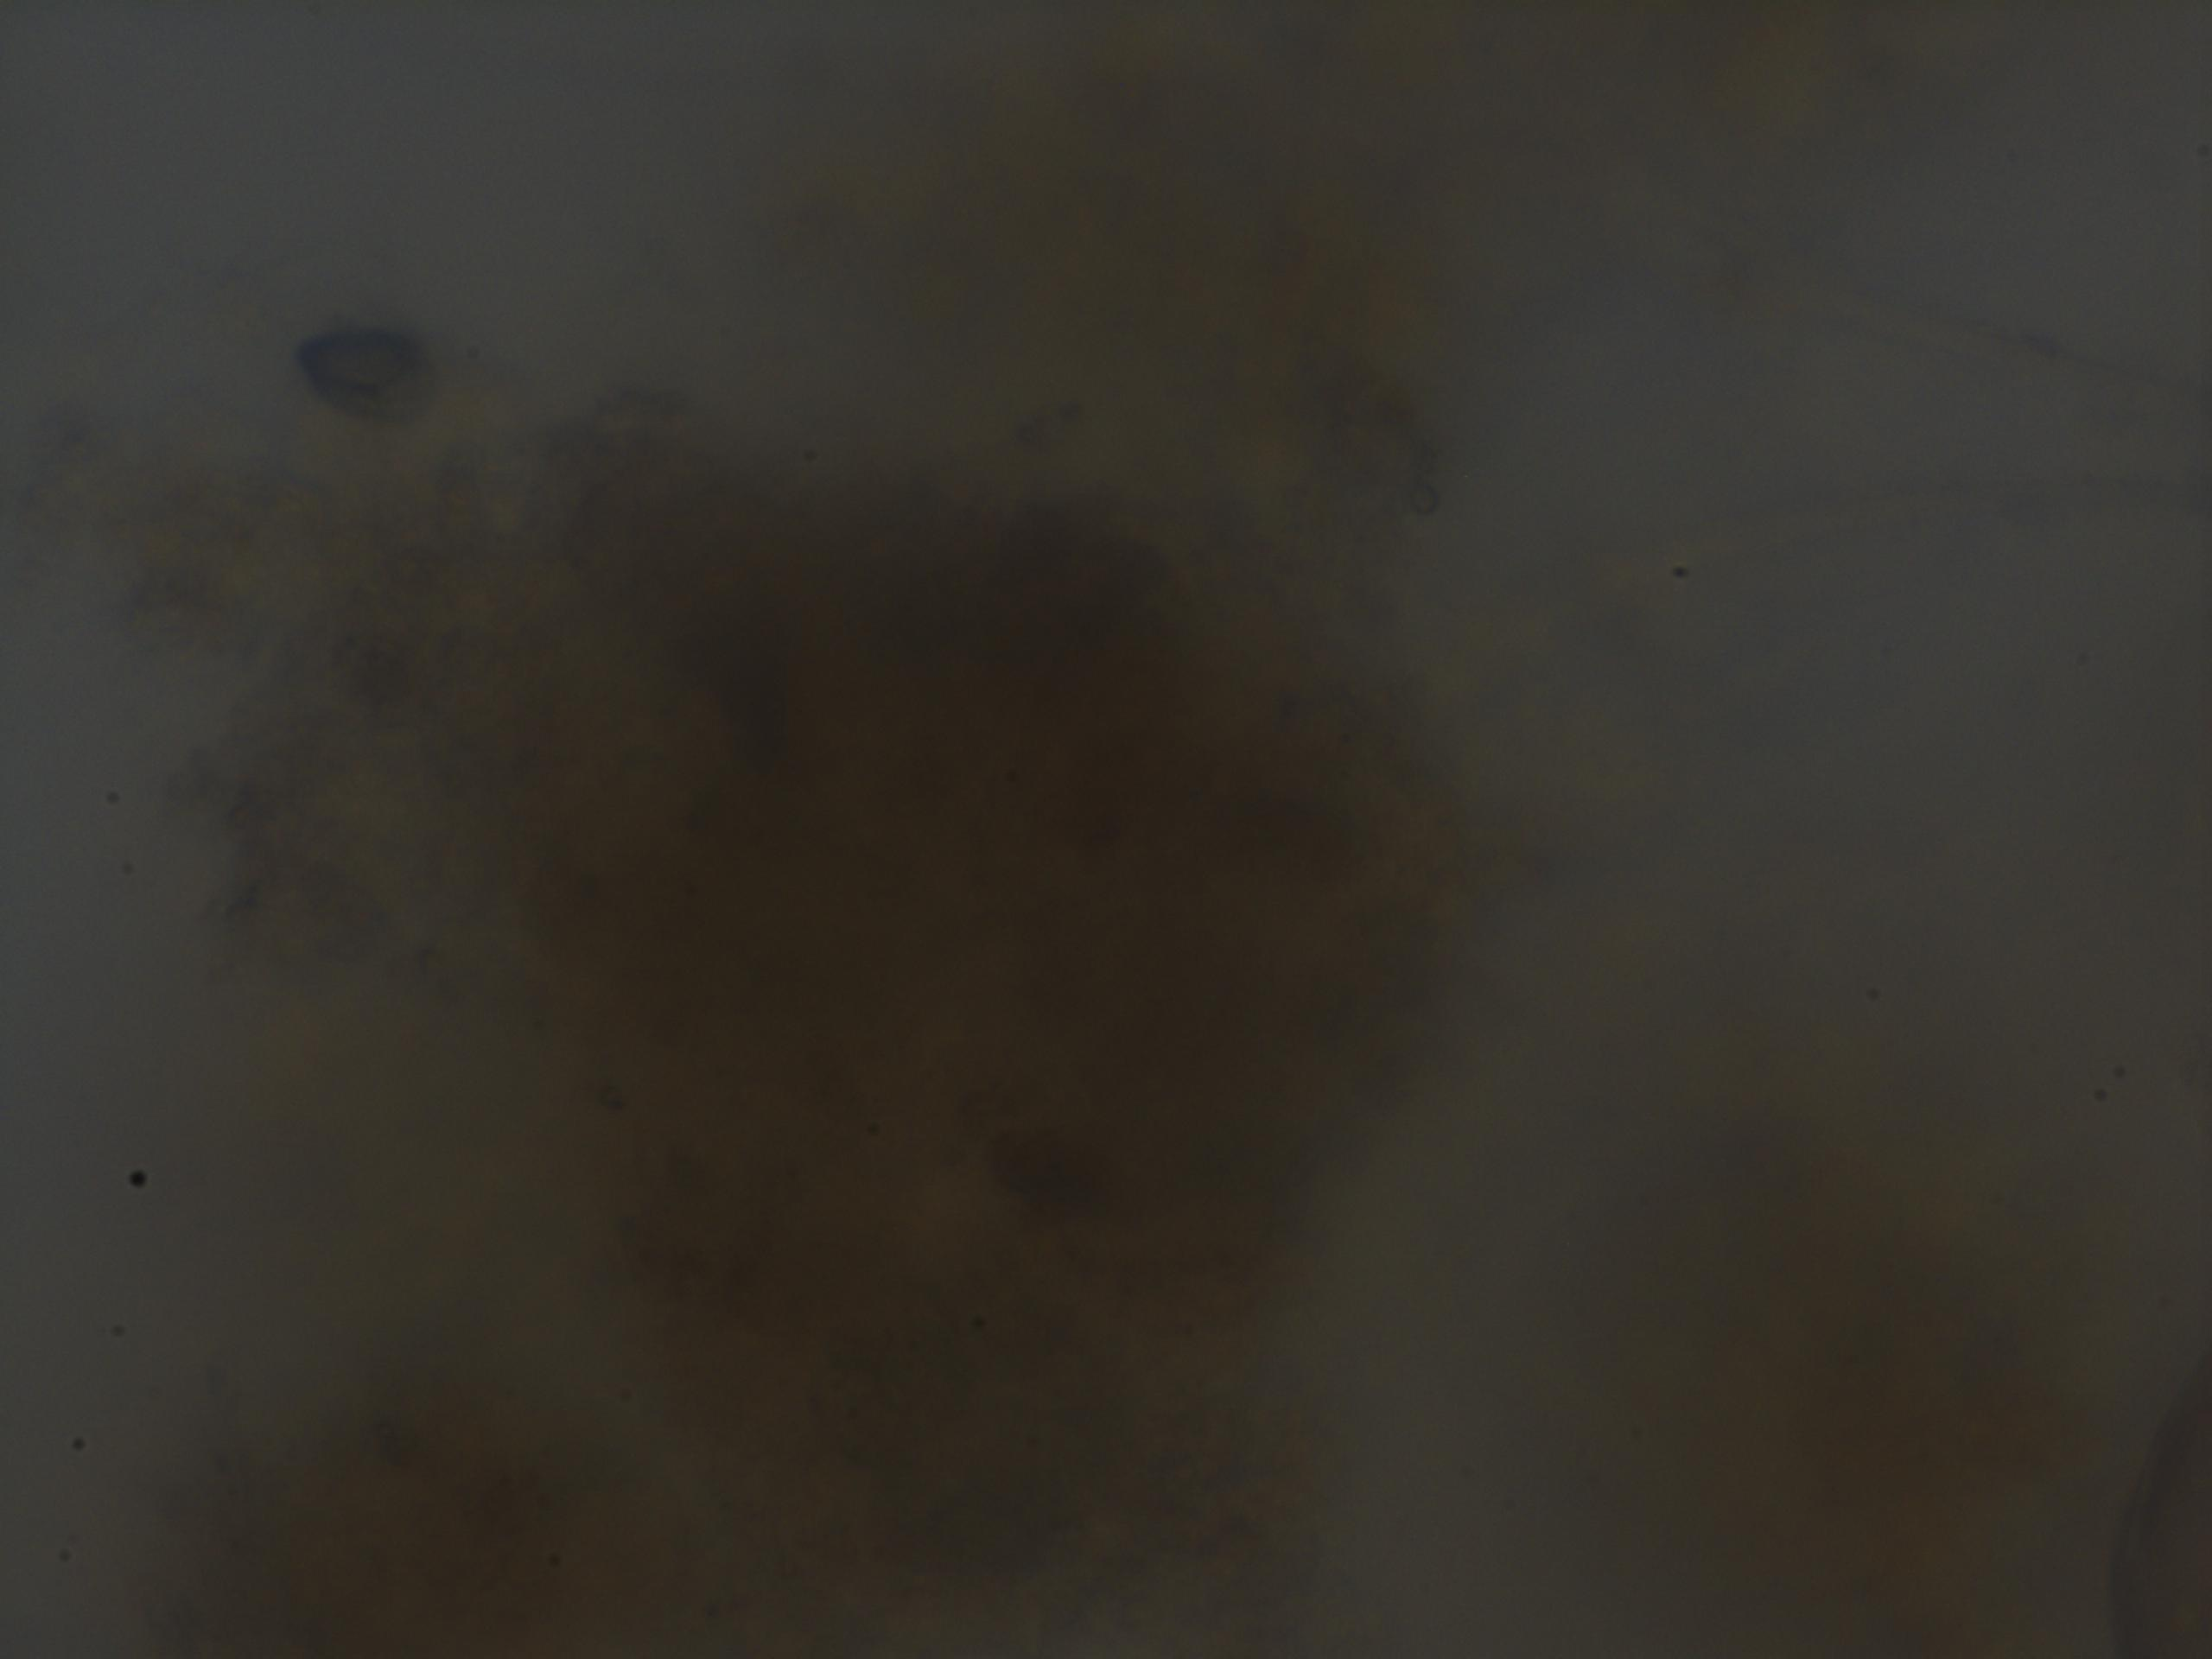filament: (1453, 439, 2212, 699), (1688, 185, 2212, 455)
